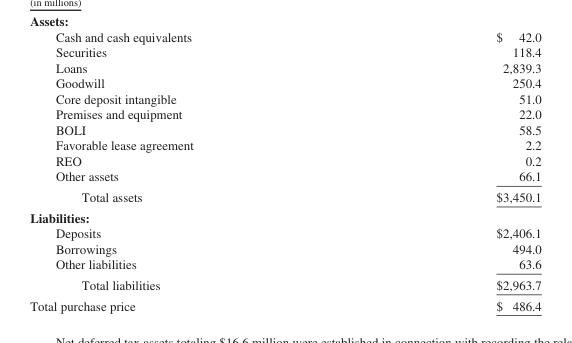table: (29, 29, 540, 312)
table column: (29, 29, 344, 312), (344, 29, 540, 312)
table projected row header: (29, 206, 540, 225)
table row: (29, 186, 540, 206), (29, 274, 540, 294), (29, 206, 540, 225), (29, 168, 540, 186), (29, 256, 540, 274), (29, 294, 540, 312), (29, 59, 540, 75), (29, 90, 540, 106), (29, 121, 540, 137), (29, 152, 540, 168), (29, 240, 540, 256), (29, 29, 540, 44), (29, 44, 540, 59), (29, 75, 540, 90), (29, 106, 540, 121), (29, 137, 540, 152), (29, 225, 540, 240)
